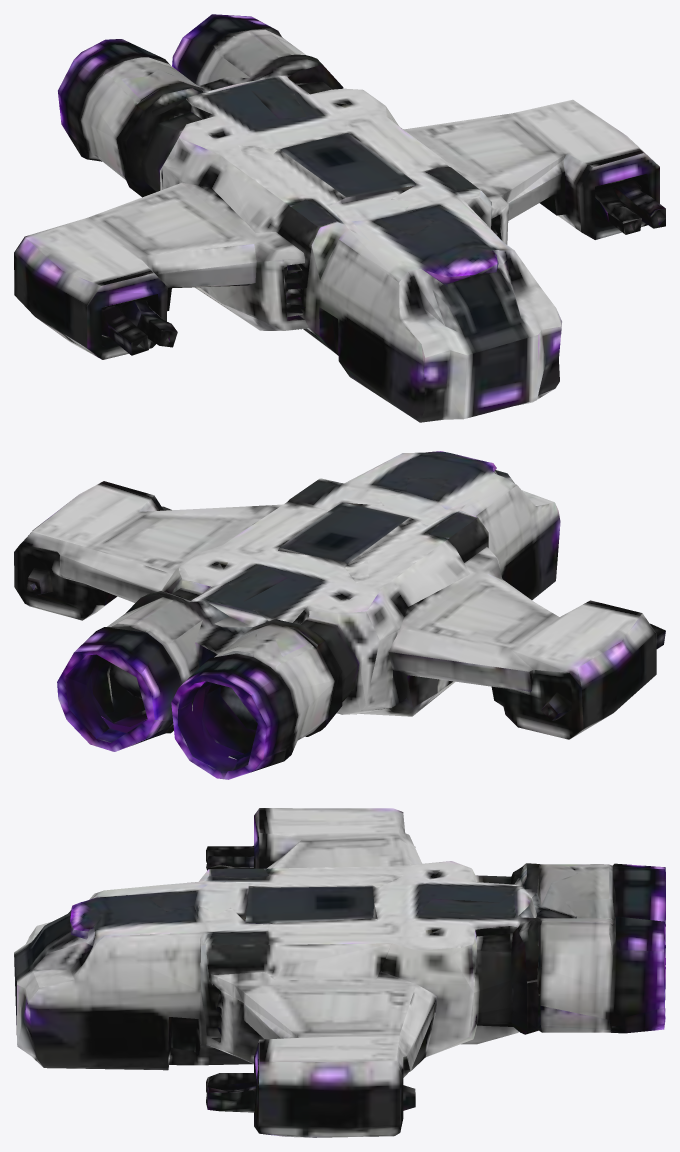
File: enemy-heavy-s1.glb
The picture shows the model from 3 angles, top to bottom: view 1: azimuth 30°, elevation 25°; view 2: azimuth 150°, elevation 25°; view 3: azimuth 270°, elevation 25°; orthographic projection. The views are drawn at different scales.
Parts seen in each view (by area): view 1: 9adbb147-c497-479b-8c6b-6f7a91005b4a_texturing.obj; view 2: 9adbb147-c497-479b-8c6b-6f7a91005b4a_texturing.obj; view 3: 9adbb147-c497-479b-8c6b-6f7a91005b4a_texturing.obj.
Boxes of the visible parts, box(x1,y1,x2,y2) form: 9adbb147-c497-479b-8c6b-6f7a91005b4a_texturing.obj: box(14, 14, 665, 422); 9adbb147-c497-479b-8c6b-6f7a91005b4a_texturing.obj: box(14, 451, 665, 779); 9adbb147-c497-479b-8c6b-6f7a91005b4a_texturing.obj: box(14, 808, 665, 1137).
Size of the model in its own units: 1.99 by 0.486 by 1.99.
Materials: 1 (1 with a texture image).
